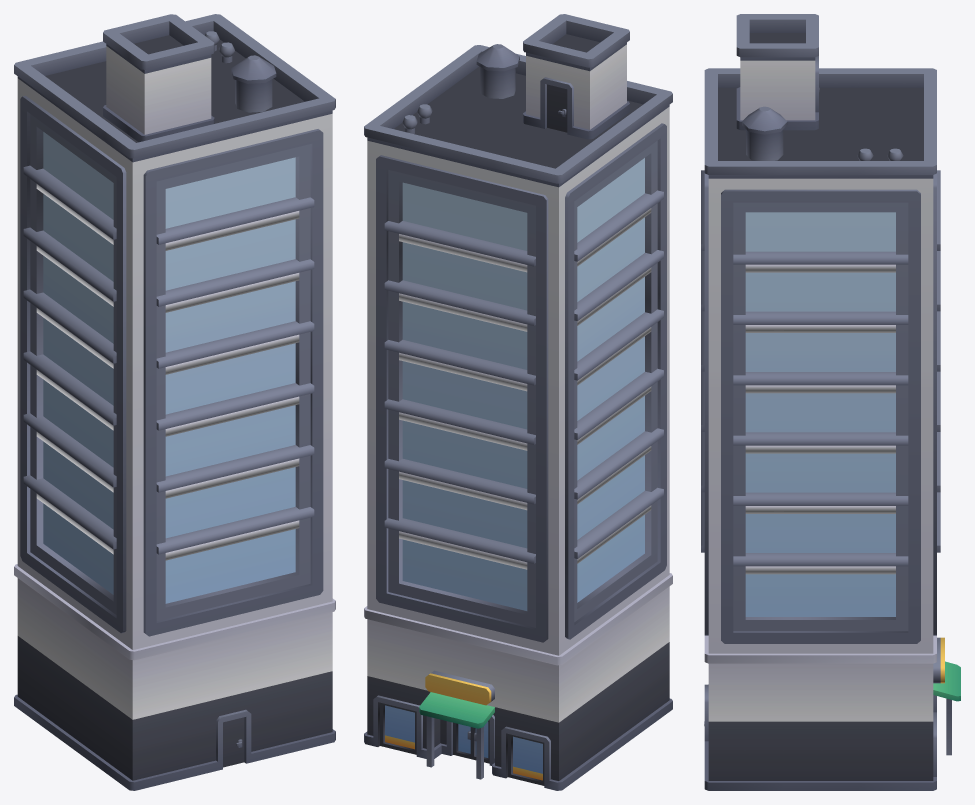
The model's file is building-skyscraper-c.glb.
3 views of the same model, side by side, from view 1: azimuth 30°, elevation 25°; view 2: azimuth 150°, elevation 25°; view 3: azimuth 270°, elevation 25° (orthographic). The views are drawn at different scales.
Visible parts, largest first — view 1: building-skyscraper-c; view 2: building-skyscraper-c; view 3: building-skyscraper-c.
Boxes of the visible parts, <box> form: building-skyscraper-c: <box>14,14,335,790</box>; building-skyscraper-c: <box>364,14,672,790</box>; building-skyscraper-c: <box>701,14,960,790</box>.
Size of the model in its own units: 1.28 by 4.08 by 1.39.
1 material, 1 textured.
